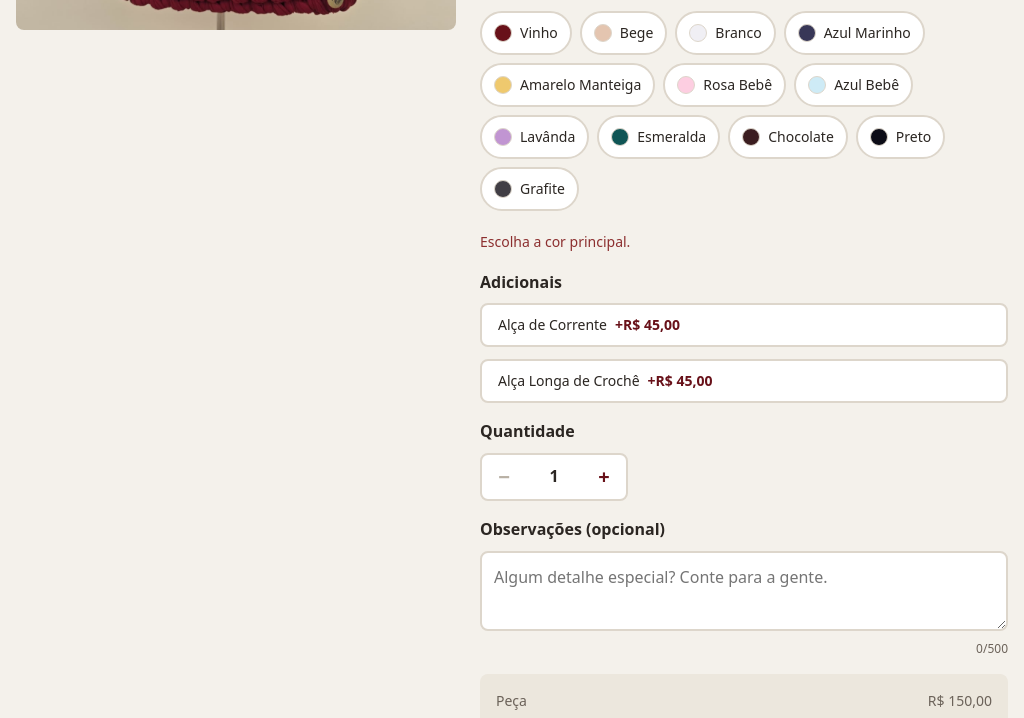
ProdutoPage › exibe seletor de cor da alça quando "Alça longa de crochê" é selecionada
(page scrolled)
Expected: the element "cor da alça" is not shown
Click the button "Alça Longa de Crochê +R$ 45,00" at (569, 381), box 480,359 -> 1008,403
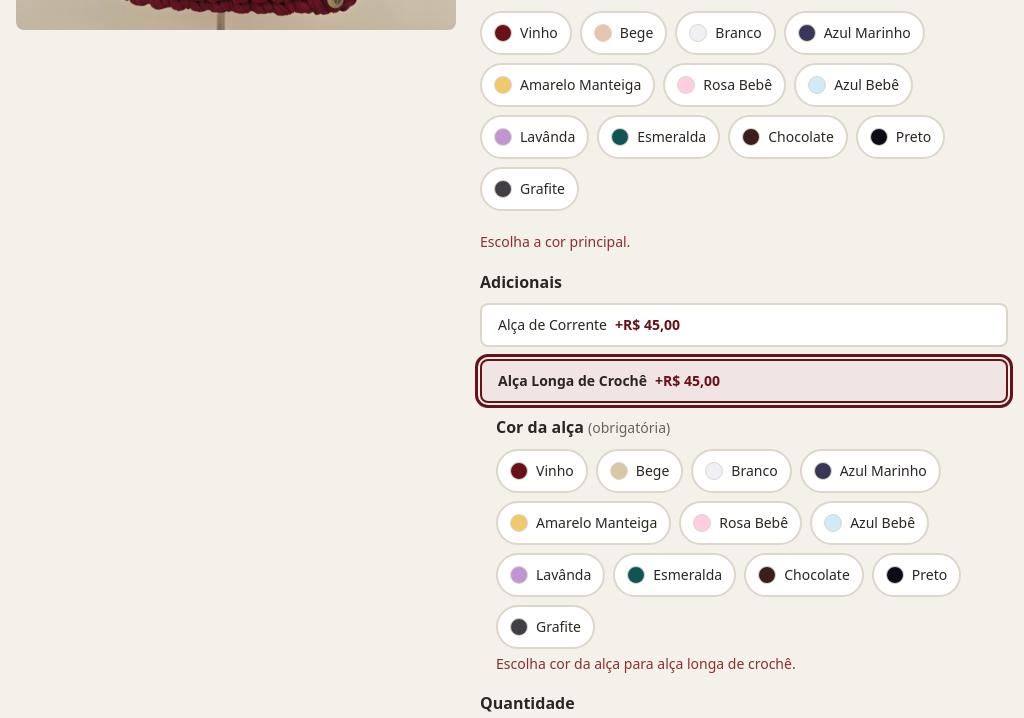
Now the element "Cor da alça" is shown, box 496,415 -> 1008,649
